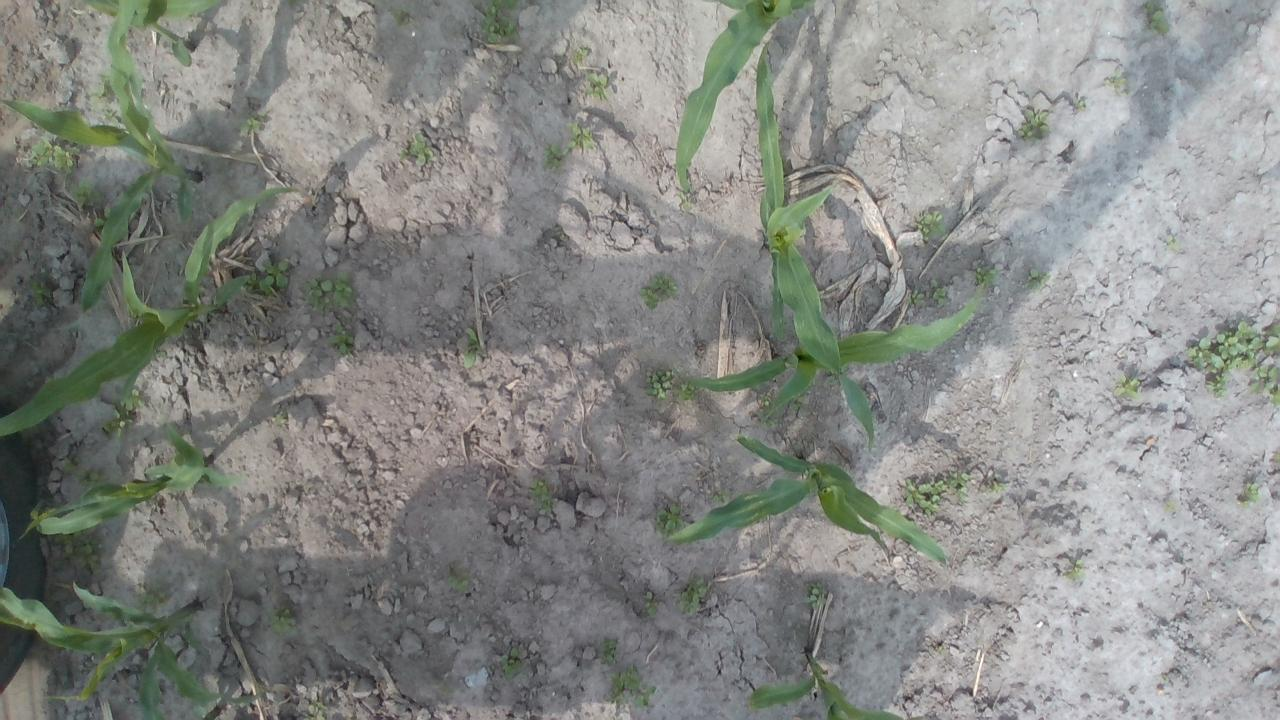Maize: (0, 184, 301, 446), (0, 0, 208, 335), (754, 36, 879, 452), (669, 284, 988, 417), (0, 582, 268, 720), (670, 436, 949, 568), (673, 0, 819, 195), (22, 418, 246, 544), (746, 645, 906, 720), (84, 0, 220, 68)
Weeds: (1184, 318, 1262, 400), (52, 526, 105, 575), (602, 664, 658, 708), (300, 270, 354, 314), (30, 134, 77, 176), (478, 0, 520, 44), (901, 476, 943, 516), (638, 273, 678, 312), (258, 256, 294, 294), (674, 573, 706, 615), (1251, 364, 1280, 410), (652, 500, 689, 536), (1017, 107, 1051, 141), (530, 476, 558, 516), (400, 130, 432, 164), (100, 408, 132, 442), (70, 178, 104, 209), (88, 70, 114, 110), (138, 580, 168, 614), (1142, 0, 1170, 36), (916, 210, 946, 241), (754, 393, 779, 430), (644, 368, 672, 401), (461, 328, 484, 368), (565, 122, 596, 150), (1102, 63, 1130, 94), (944, 470, 971, 502), (542, 142, 568, 174), (328, 320, 352, 354), (268, 606, 296, 634), (1112, 374, 1141, 400), (500, 646, 522, 680), (28, 276, 52, 307), (585, 72, 610, 100), (1238, 480, 1262, 509), (120, 386, 146, 412), (804, 581, 826, 611), (237, 110, 262, 136), (1023, 268, 1050, 292), (596, 636, 616, 668), (928, 278, 949, 308), (986, 471, 1010, 496), (1264, 320, 1280, 356), (444, 572, 472, 592), (1064, 558, 1088, 580), (974, 266, 998, 288), (304, 700, 329, 720), (80, 469, 104, 489), (643, 590, 660, 618), (674, 380, 697, 400), (100, 106, 120, 128), (93, 204, 110, 228), (59, 455, 78, 476), (1164, 232, 1180, 256), (393, 6, 413, 25), (905, 288, 923, 308), (678, 190, 693, 213), (572, 47, 589, 64), (270, 410, 288, 425), (712, 490, 732, 502), (1162, 499, 1176, 514), (246, 274, 258, 291), (1072, 96, 1085, 111), (154, 347, 167, 358), (1275, 452, 1280, 461)
